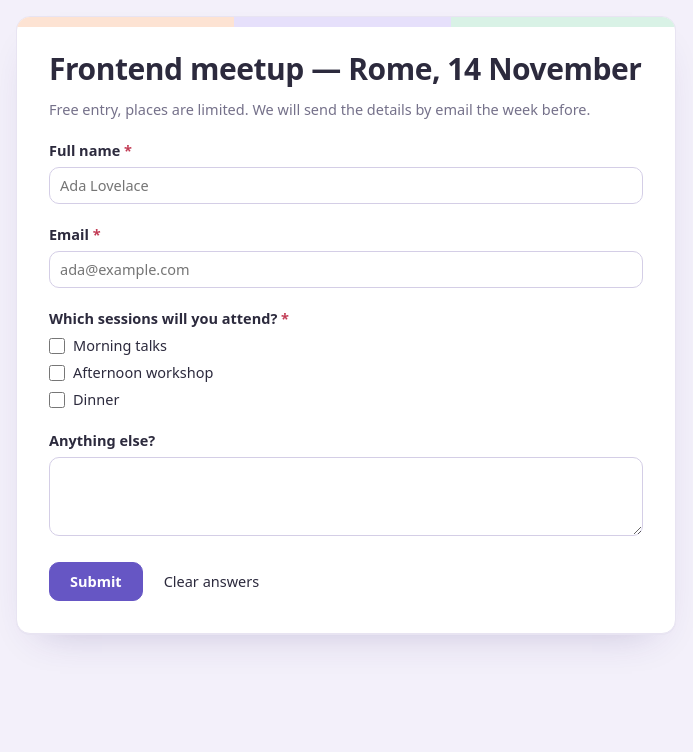
Test: Preview › reveals follow-up questions as the rules match
Expected: the field labelled "Dietary needs" is not shown
Click the checkbox labelled "Dinner": {"x": 57, "y": 400} [49,392,65,408]
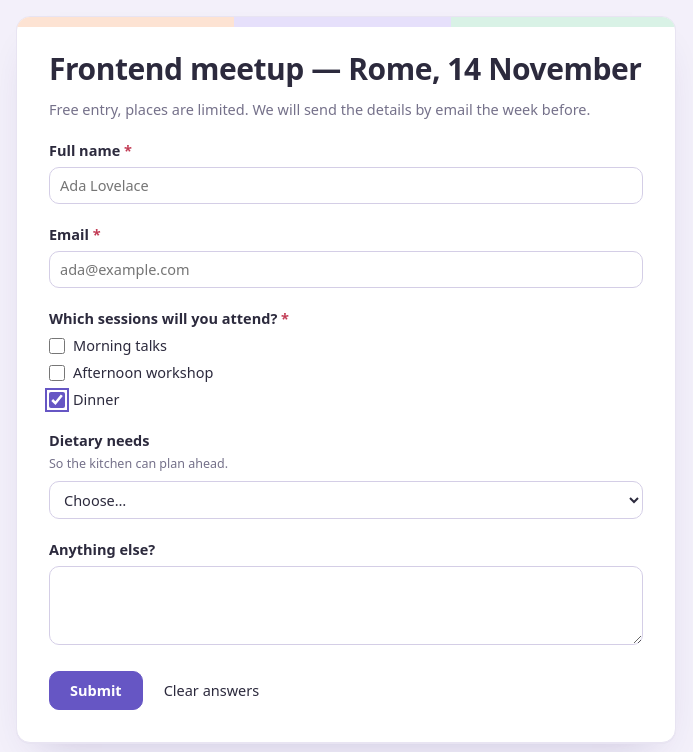
Select "Other" in the dropdown labelled "Dietary needs": {"x": 346, "y": 500} [49,481,643,519]
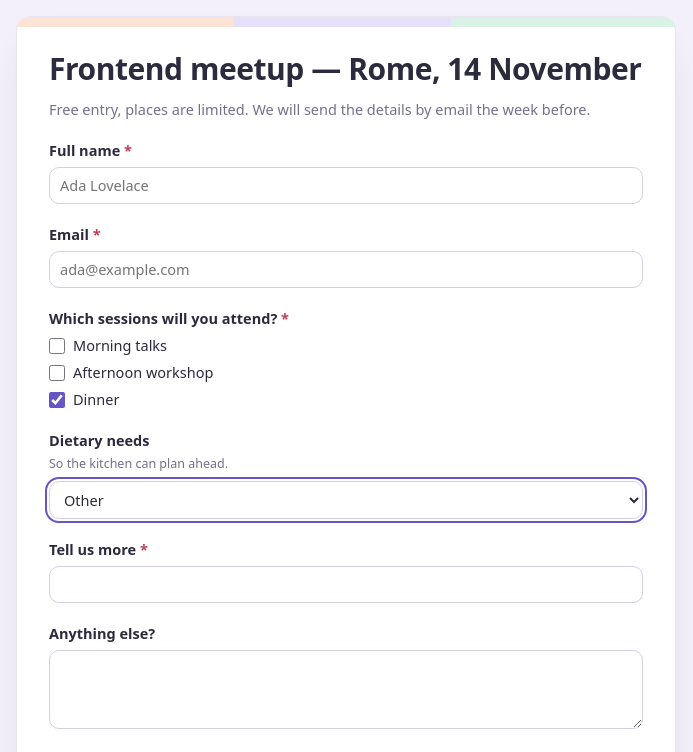
Expected: the field labelled "Tell us more *" is shown, [49,566,643,603]
Click the checkbox labelled "Dinner": {"x": 57, "y": 400} [49,392,65,408]
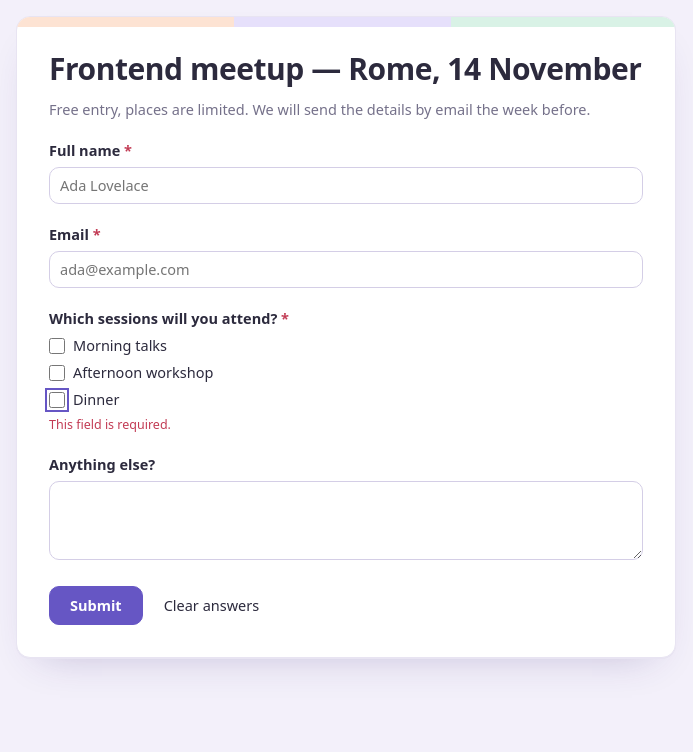
Expected: the label labelled "Tell us more" is gone
